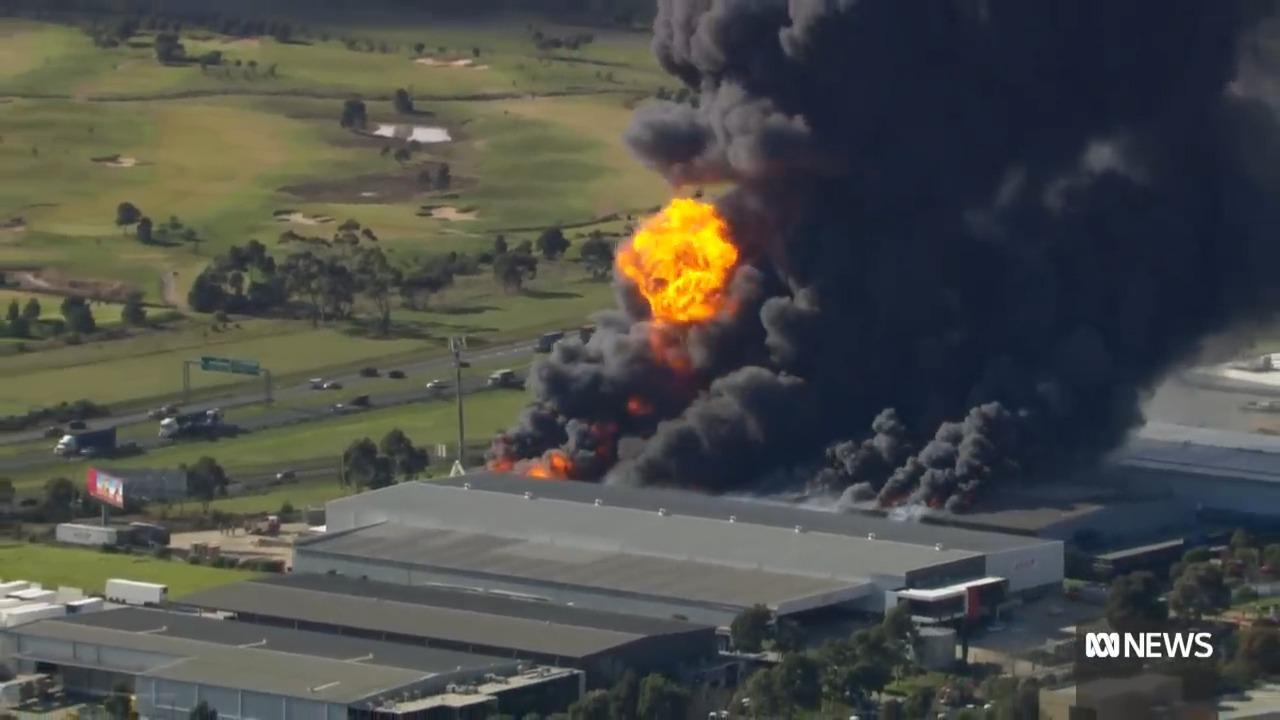fire: (615, 190, 757, 383)
